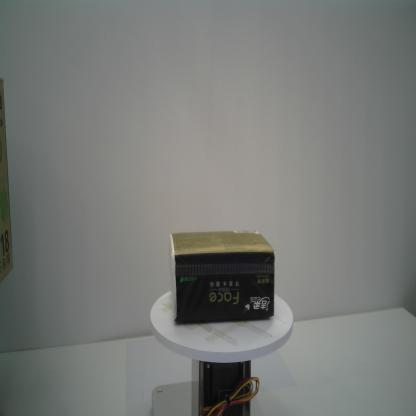Tissue: (168, 230, 276, 326)
